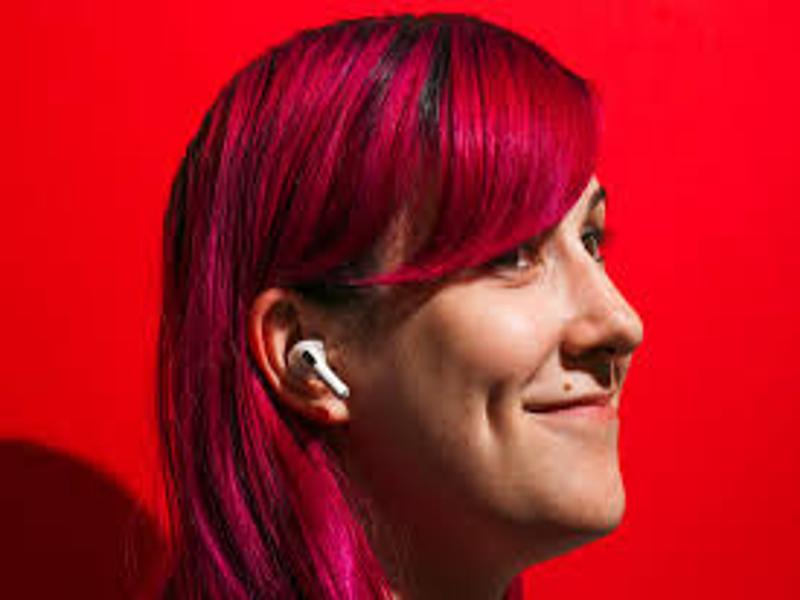headphone: (285, 335, 355, 398)
